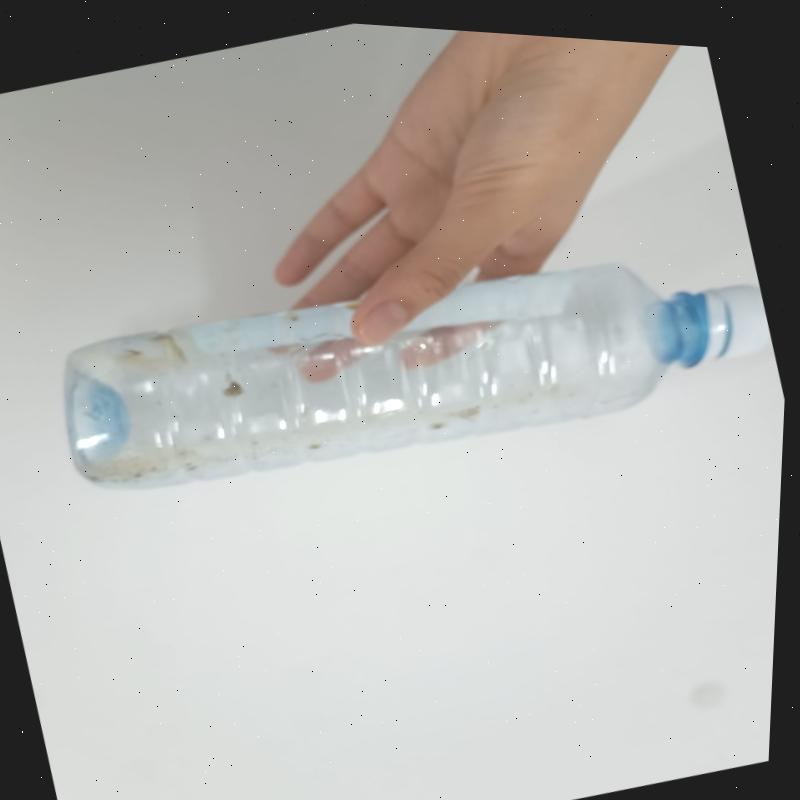botella: (42, 165, 789, 555)
